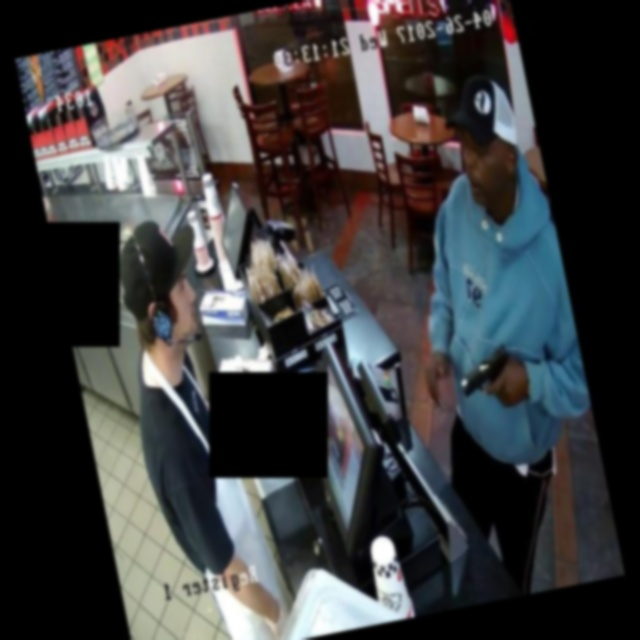gun: (443, 328, 539, 418)
